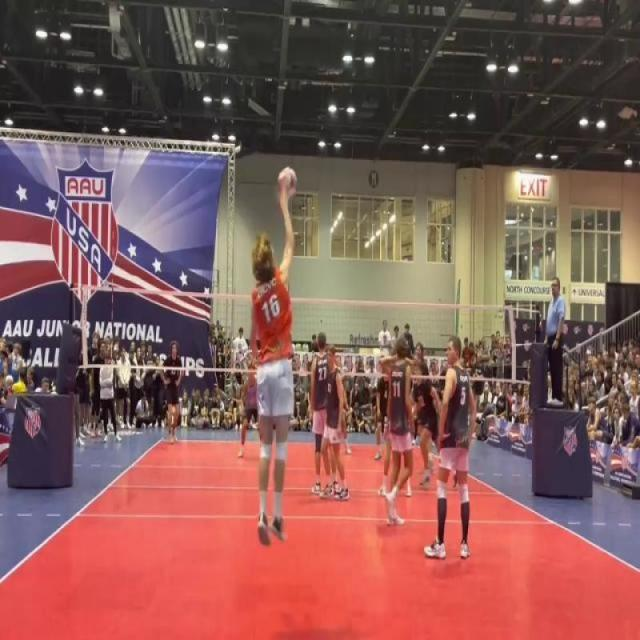volleyball: (276, 167, 300, 203)
